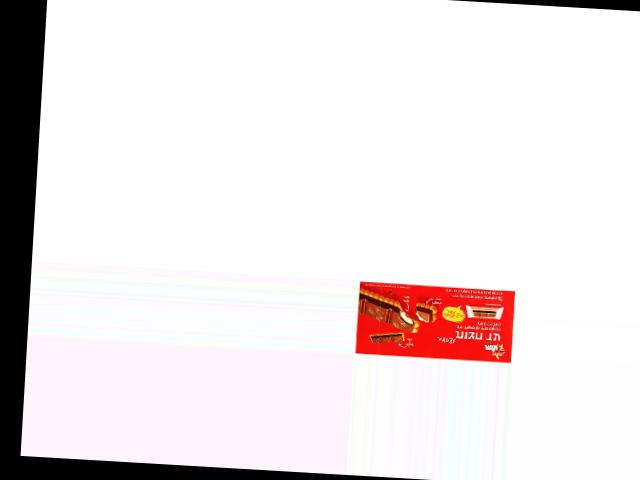chocolate: (354, 280, 518, 363)
